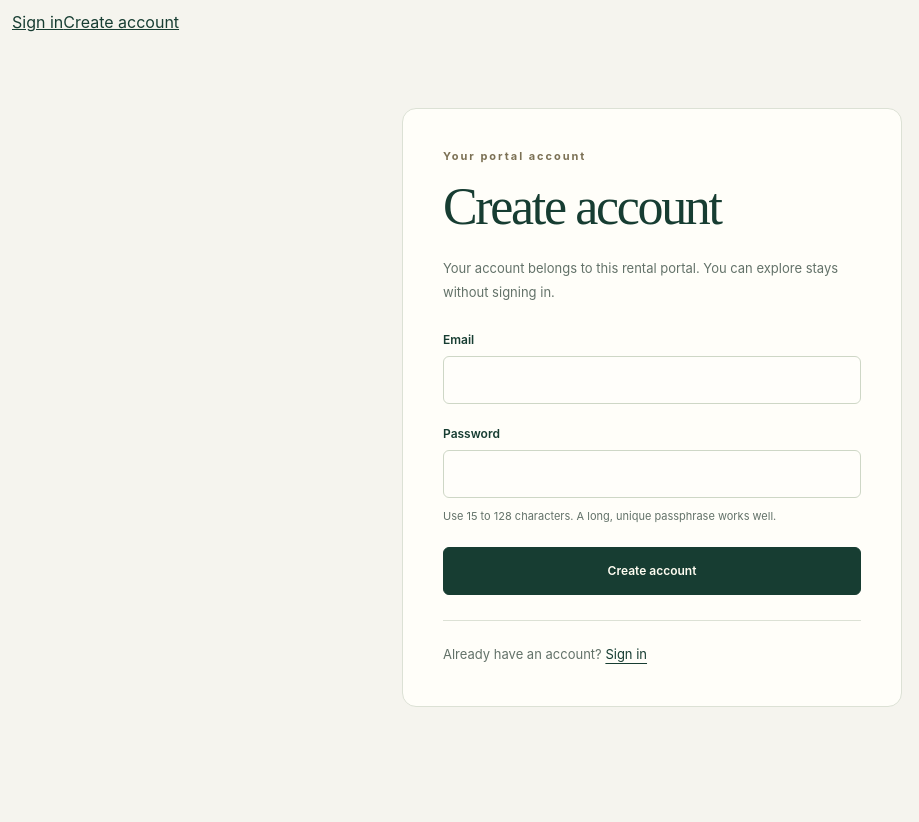
attaches API field errors to their inputs and clears the failed password
expect the button "Create account" is shown: met, box [443,547,861,595]
Type "client@example.test" into the field labelled "Email". click: (652, 380)
box: [443,356,861,404]
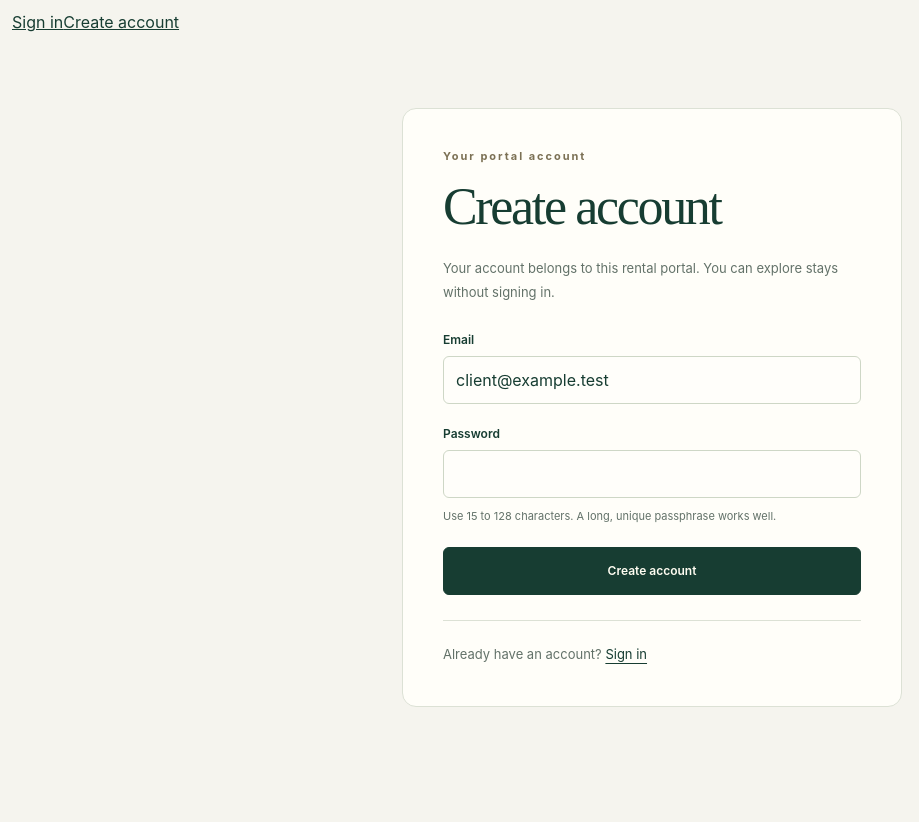
Type "A long account password 2026" into the password field labelled "Password". click: (652, 474)
box: [443,450,861,498]
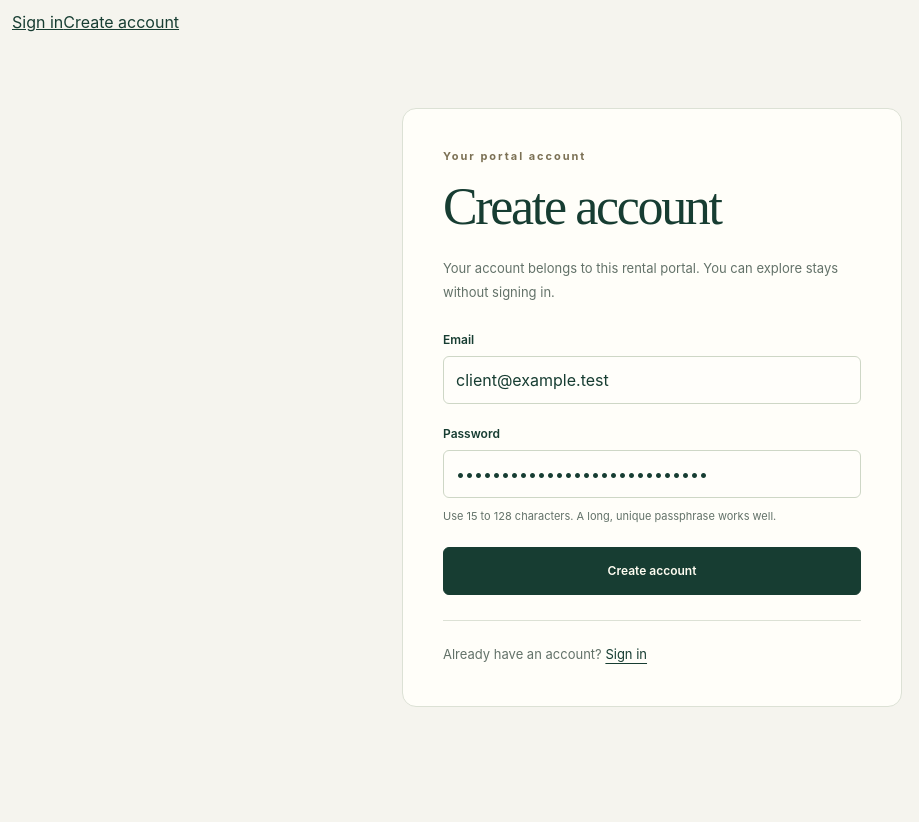
Submit the form named "Create account", box [443,332,861,595]
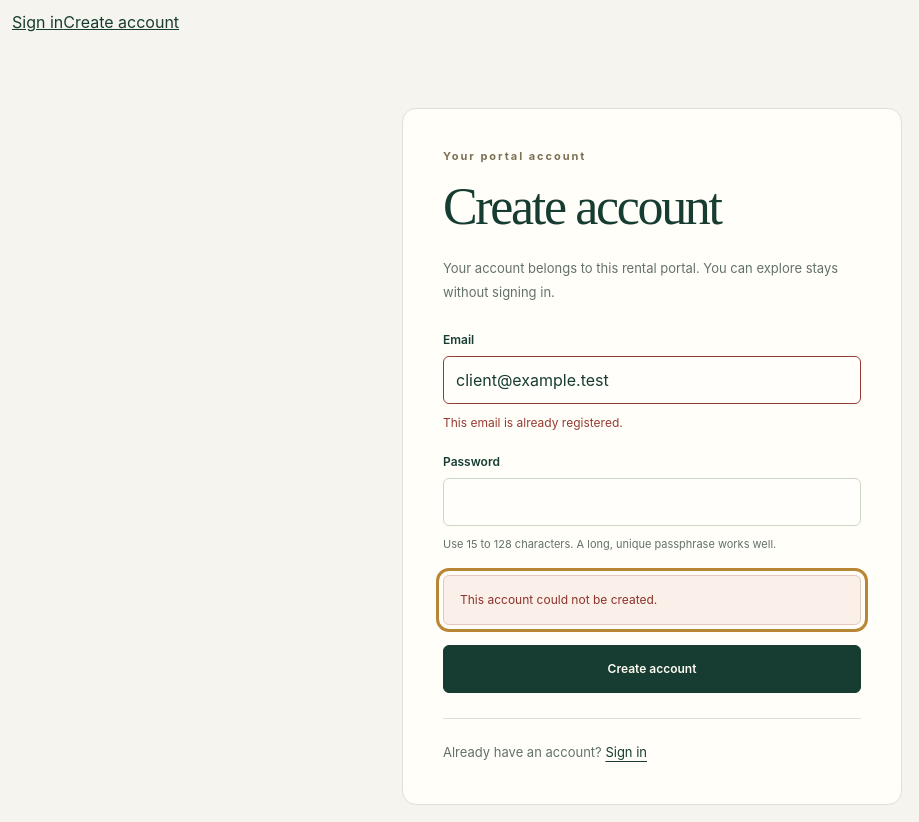
expect the message reads "This account could not be created.": met, box [460,592,657,607]
expect the password field labelled "Password" is empty: met, box [443,478,861,526]
